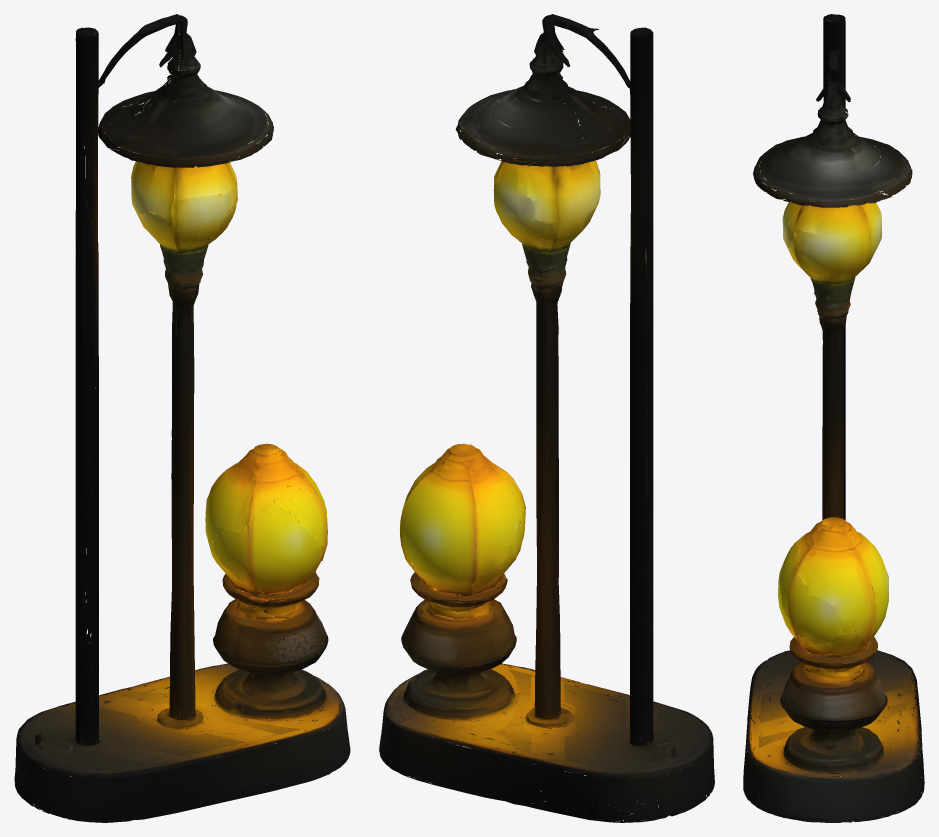
Rendered from hunyuan-streetlamp.glb.
3 views of the same model, side by side, from view 1: azimuth 30°, elevation 25°; view 2: azimuth 150°, elevation 25°; view 3: azimuth 270°, elevation 25° (orthographic). The views are drawn at different scales.
Parts seen in each view (by area): view 1: node_0; view 2: node_0; view 3: node_0.
Boxes of the visible parts, x1=… form: node_0: x1=14, y1=14, x2=350, y2=822; node_0: x1=379, y1=14, x2=714, y2=822; node_0: x1=743, y1=14, x2=924, y2=822.
Bounding box in the file's own units: 0.4695 × 1.11 × 0.2609.
1 material, 1 textured.
